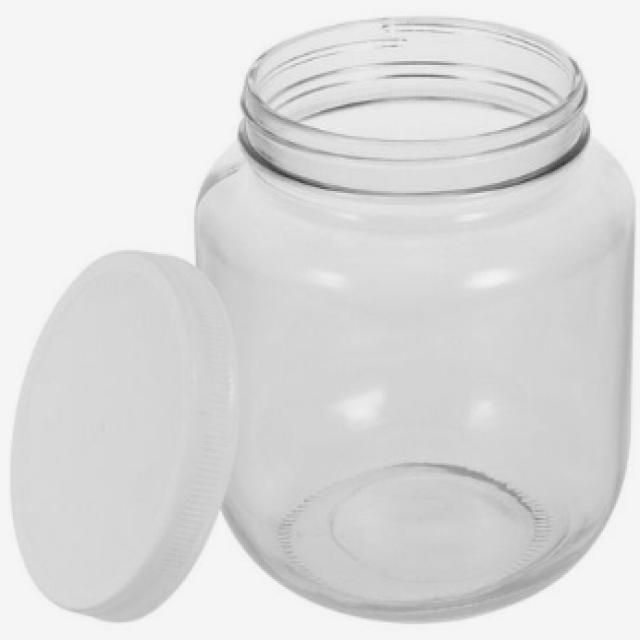ToplesKaca: (7, 12, 638, 626), (198, 26, 640, 619)
